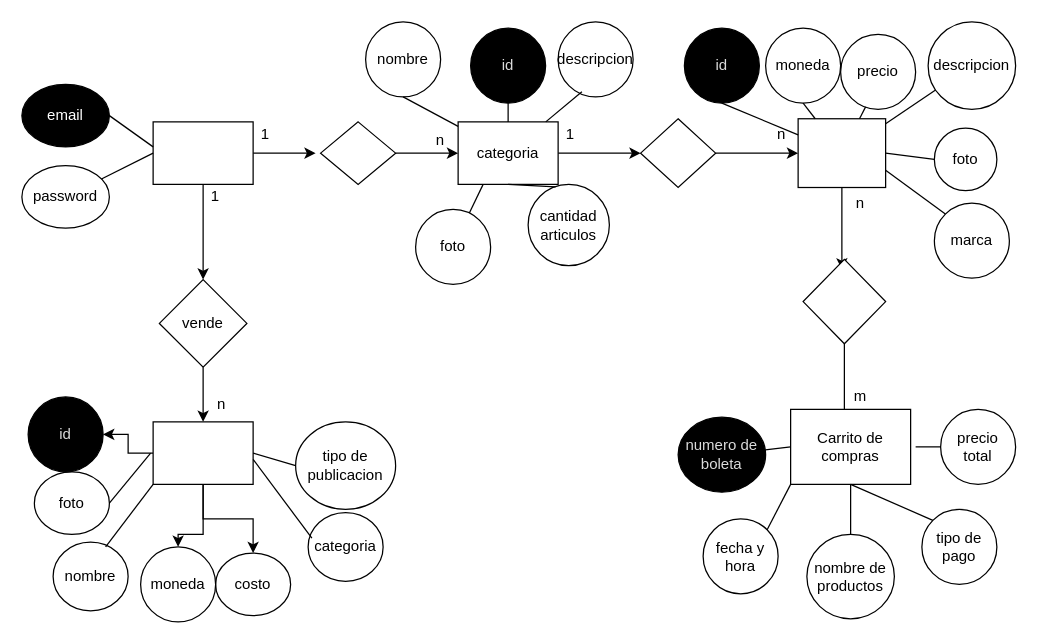
This 1038x644 diagram has some shape labels left out. The shapes that lost their labels are listed below. From the top down, each one's box as (x1, y1, x2, y2) in pixels, then its label:
(152, 121, 253, 184): usuario
(319, 121, 396, 184): elegir
(639, 118, 716, 188): comprar
(797, 118, 886, 188): producto
(802, 258, 886, 344): paga en
(152, 421, 253, 484): articulo
